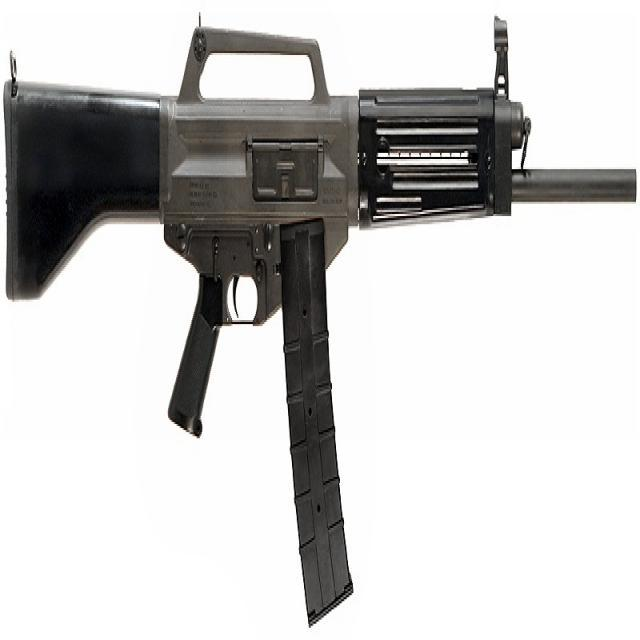gun-knife-thesis - v11 Yolov5 augmented: (1, 12, 632, 622)
